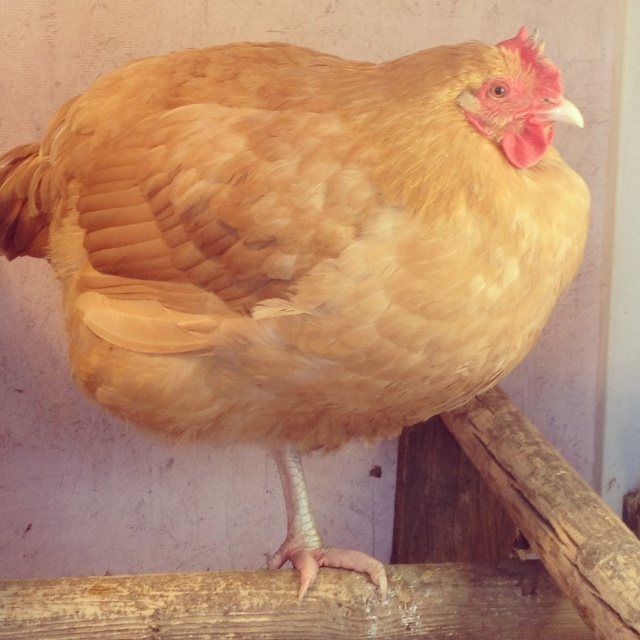Chicken: (21, 23, 610, 594)
